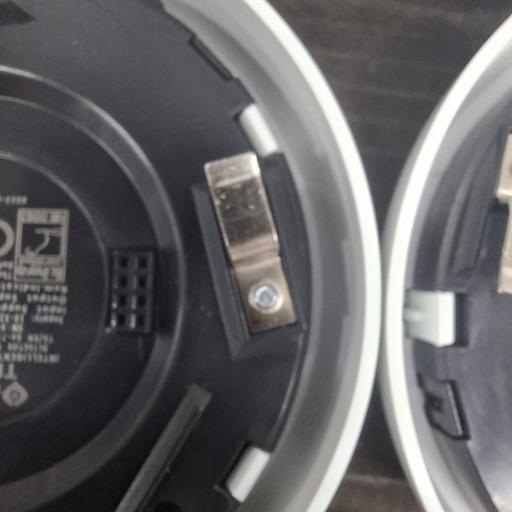yaysiz: (203, 150, 298, 336)
